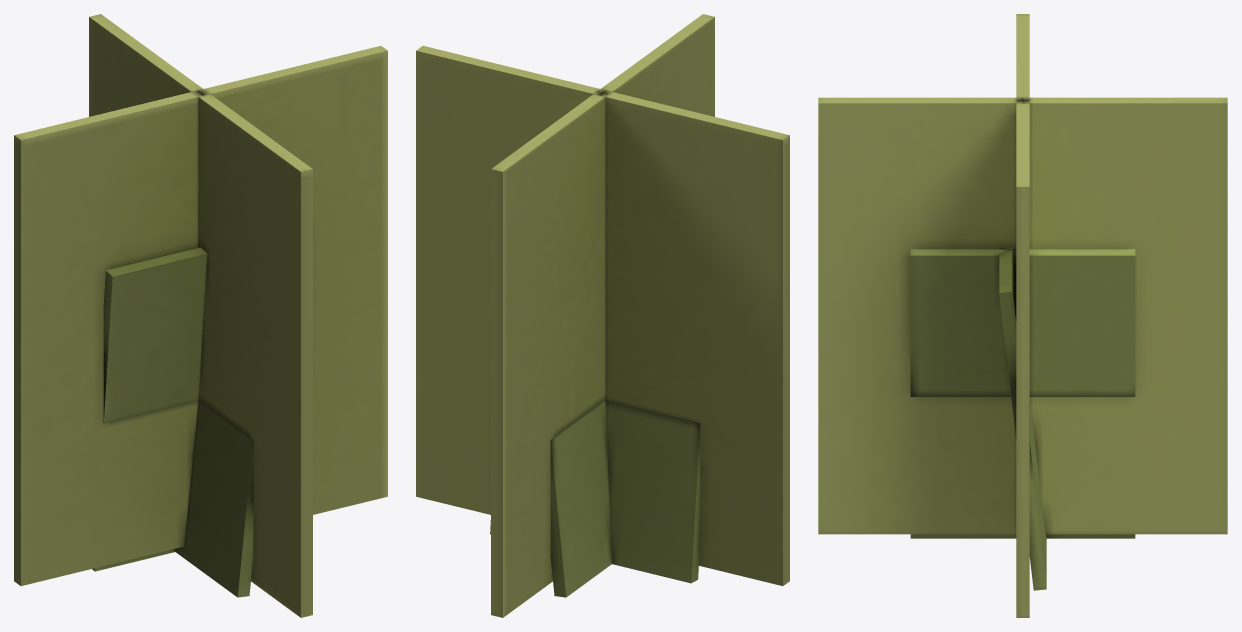
The model's file is crop.glb.
The picture shows the model from 3 angles, left to right: view 1: azimuth 30°, elevation 25°; view 2: azimuth 150°, elevation 25°; view 3: azimuth 270°, elevation 25°; orthographic projection. The views are drawn at different scales.
Parts seen in each view (by area): view 1: crop; view 2: crop; view 3: crop.
Part boxes in pixels (x1=…): crop: x1=14, y1=14, x2=387, y2=617; crop: x1=416, y1=14, x2=789, y2=617; crop: x1=818, y1=14, x2=1227, y2=617.
Size of the model in its own units: 0.62 by 0.7397 by 0.62.
Materials: 2 (2 with a texture image).
